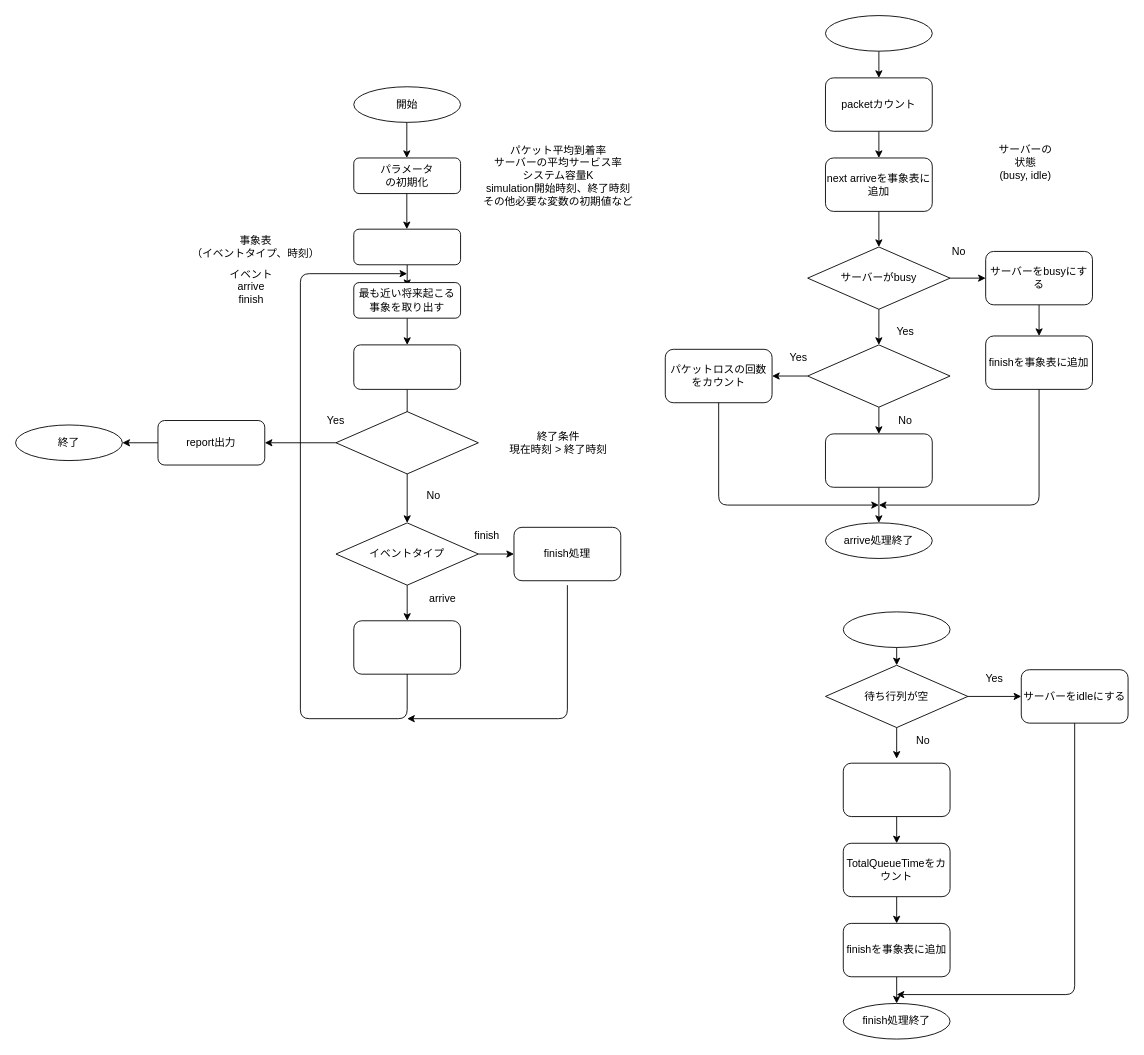
The diagram is 1144 pixels wide and 1055 high, and some of its shapes have lost their labels. The centre of each missing label's shape, as x and y in pixels:
"arrive処理" belongs at (x=407, y=647).
"arrive処理開始" belongs at (x=878, y=33).
"finish処理開始" belongs at (x=896, y=629).
"事象表に最初の事象(arrive)を登録" belongs at (x=407, y=246).
"待ち行列からイベント(arrive)を取り出す (暗黙的にサーバーをbusyにする)" belongs at (x=896, y=789).
"待ち行列にイベント(arrive)追加し TotalQueueNum += 1" belongs at (x=878, y=460).
"待ち行列の長さ>=待ち行列のcapacity" belongs at (x=878, y=375).
"現在時刻を取り出した事象の時刻に進める" belongs at (x=407, y=366).
"終了条件満たす" belongs at (x=406, y=442).
